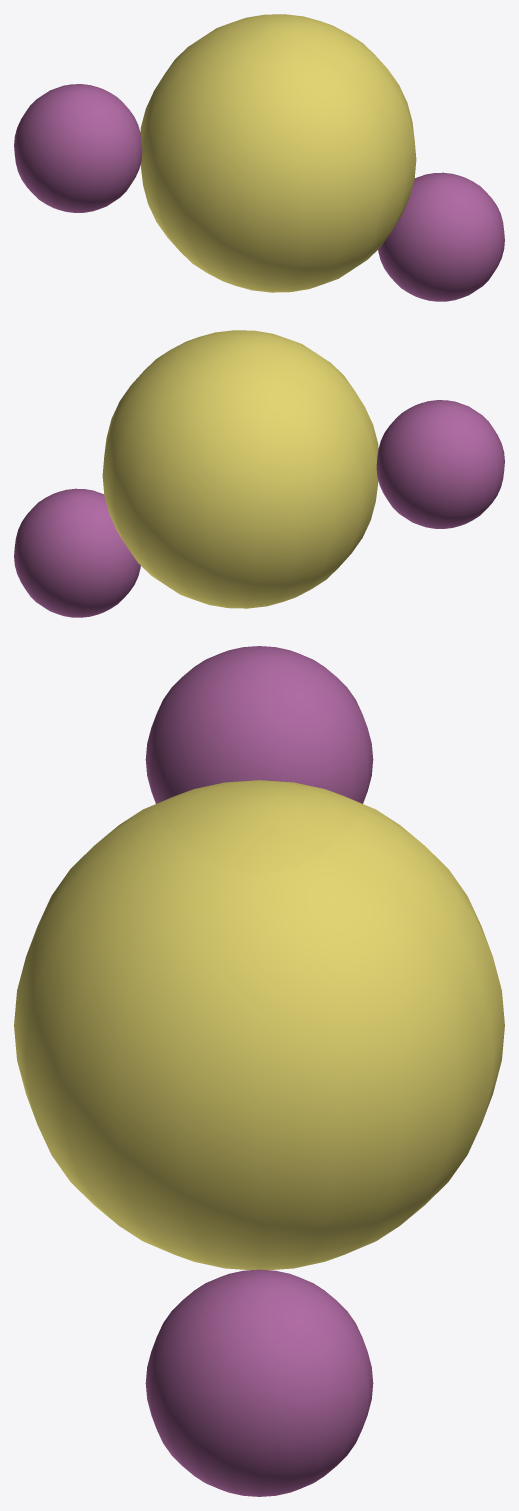
The model's file is TherdStage.fbx.
3 renders of one model, top to bottom at view 1: azimuth 30°, elevation 25°; view 2: azimuth 150°, elevation 25°; view 3: azimuth 270°, elevation 25°, orthographic. The views are drawn at different scales.
Parts seen in each view (by area): view 1: pSphere4; view 2: pSphere4; view 3: pSphere4.
Boxes of the visible parts, <box> form: pSphere4: <box>14,14,504,301</box>; pSphere4: <box>14,330,504,617</box>; pSphere4: <box>14,646,504,1496</box>.
Size of the model in its own units: 3.93 by 2.44 by 2.
